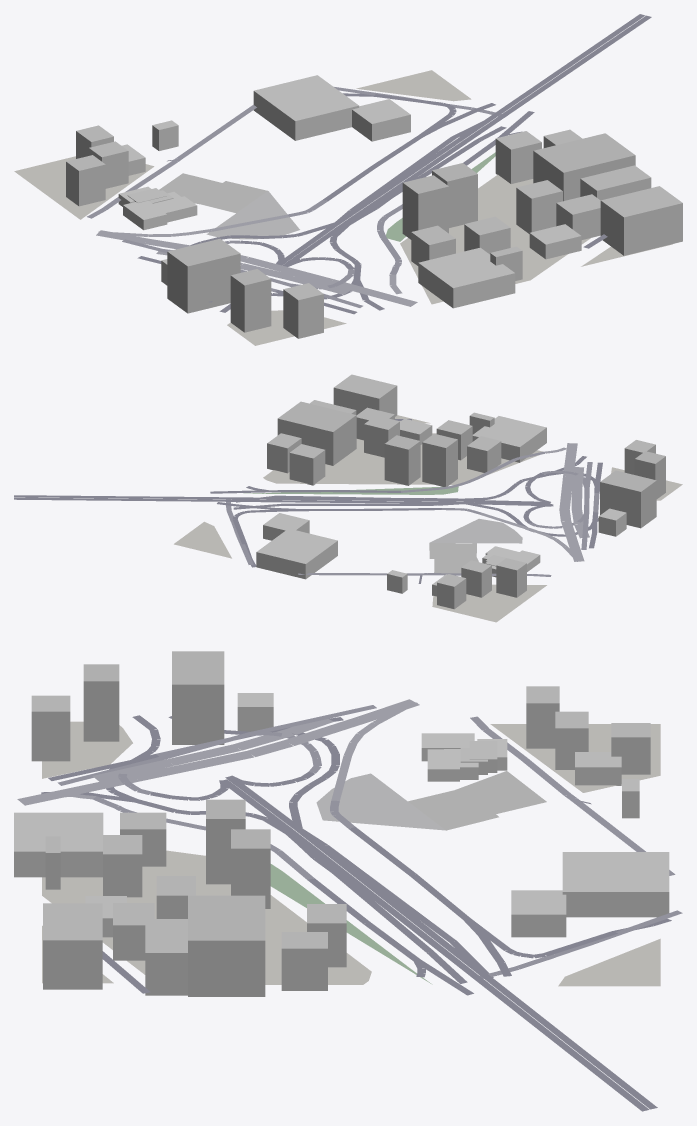
Rendered from 128_97_mid.glb.
The picture shows the model from 3 angles, top to bottom: view 1: azimuth 30°, elevation 25°; view 2: azimuth 150°, elevation 25°; view 3: azimuth 270°, elevation 25°; orthographic projection. The views are drawn at different scales.
Bounding box in the file's own units: 775 × 60.8 × 541.
